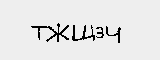Ж: (46, 21, 69, 43)
Т: (29, 23, 48, 41)
Ч: (104, 24, 122, 44)
Щ: (70, 22, 95, 42)
Э: (94, 25, 106, 39)
